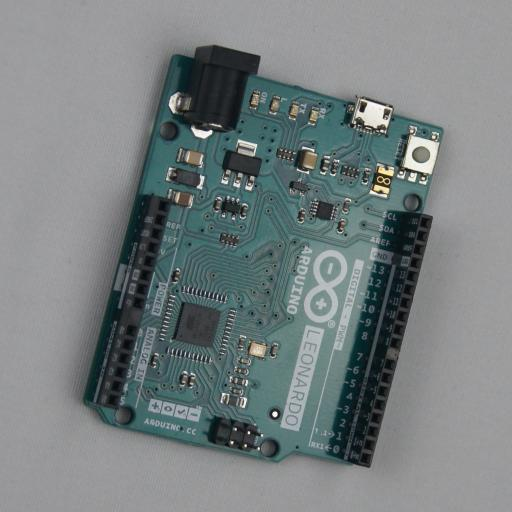Arduino Leonardo: (75, 44, 443, 468)
